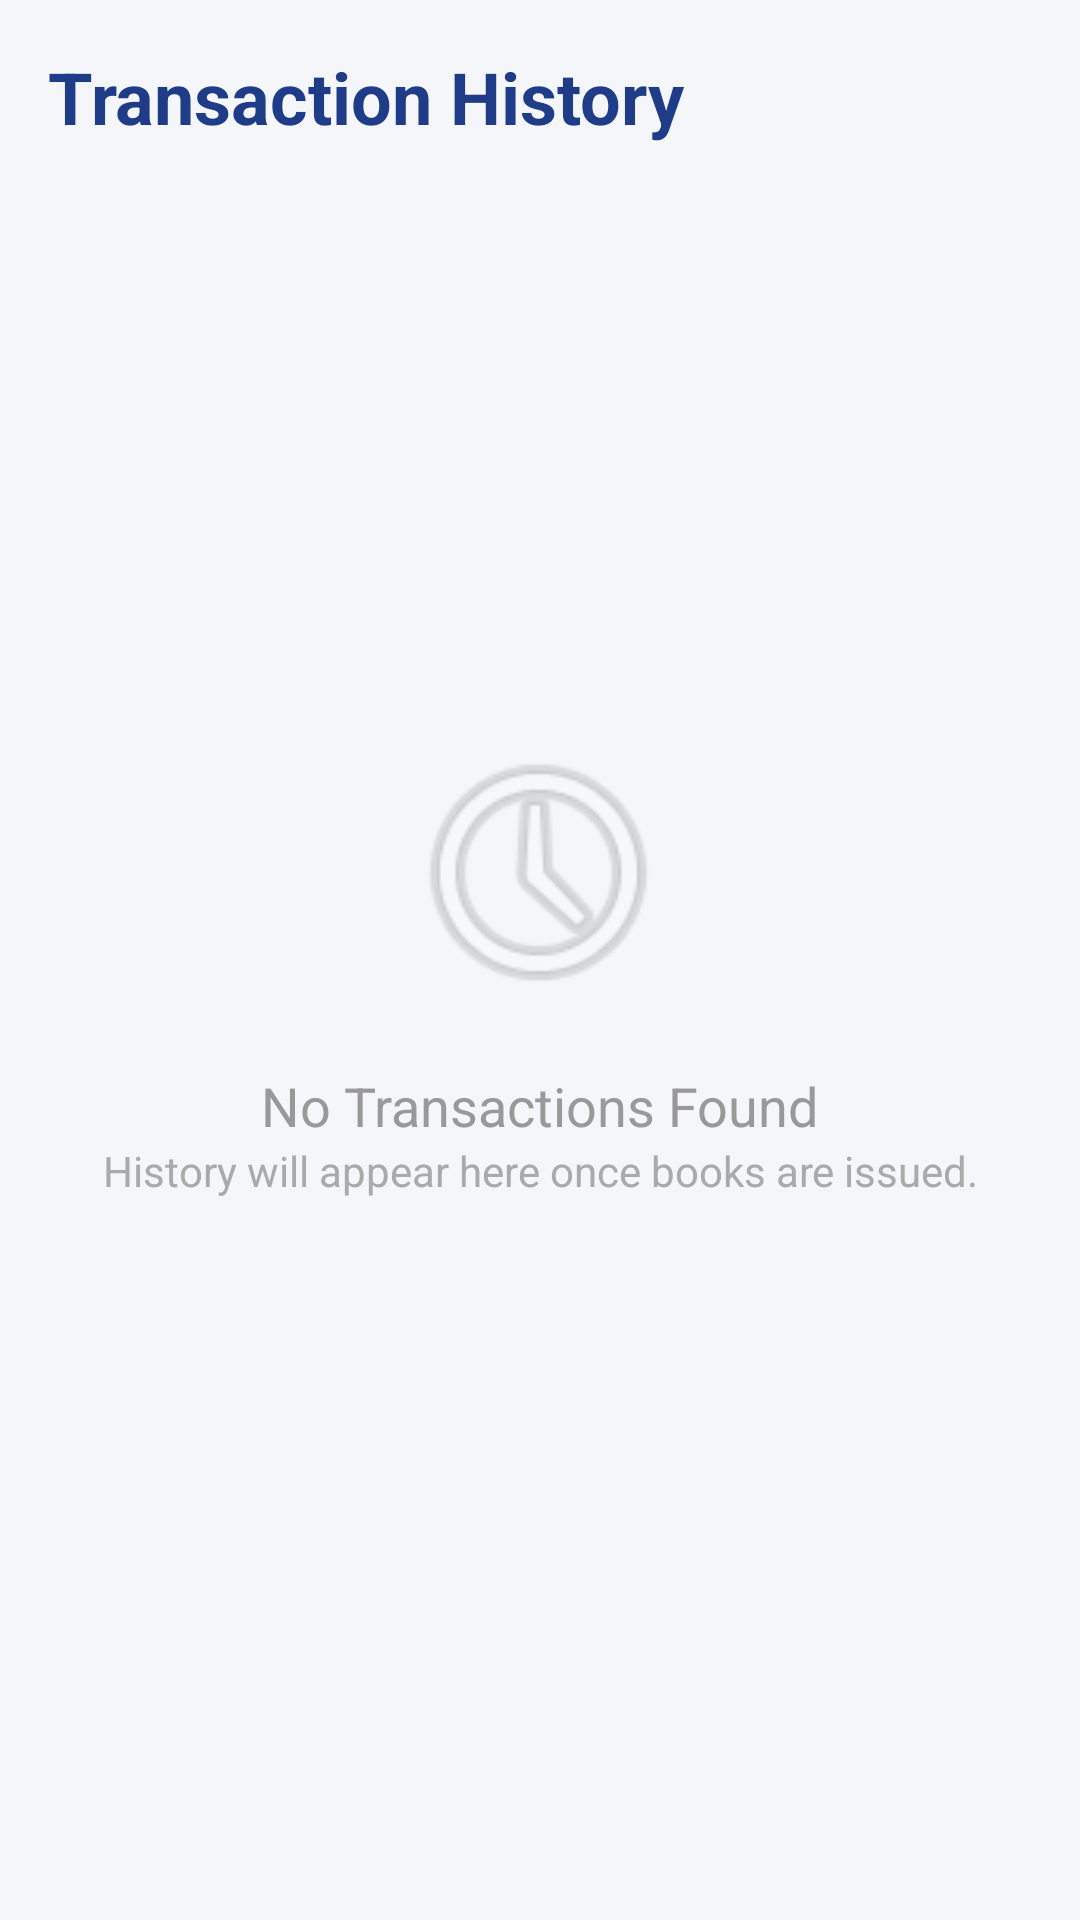

Icons on this 1080 × 1920 Android screen, each with the point to tap as [x,y]:
recent history: [538,872]
